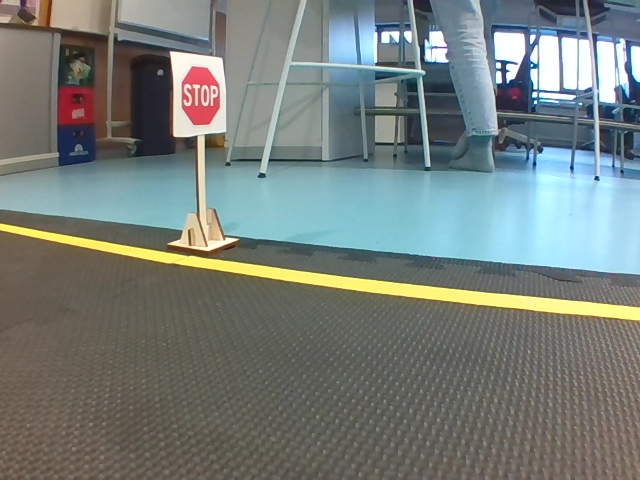stop: (364, 93, 414, 142)
